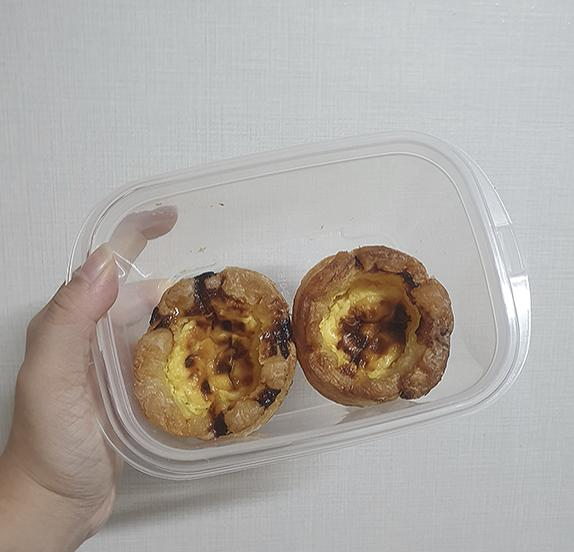Lunch Box: (72, 133, 529, 478)
